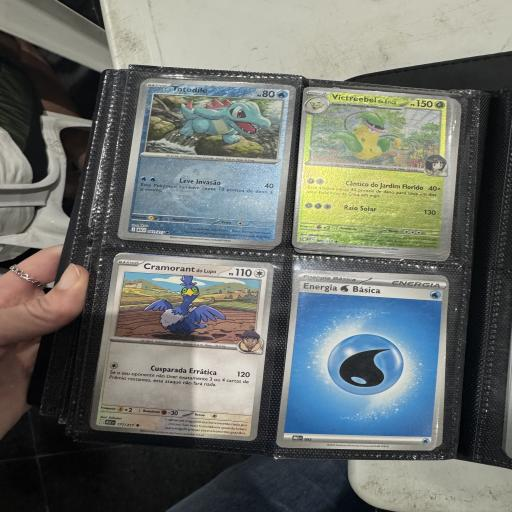card: (89, 249, 275, 443), (278, 265, 451, 462), (121, 78, 297, 246), (291, 85, 456, 261)
